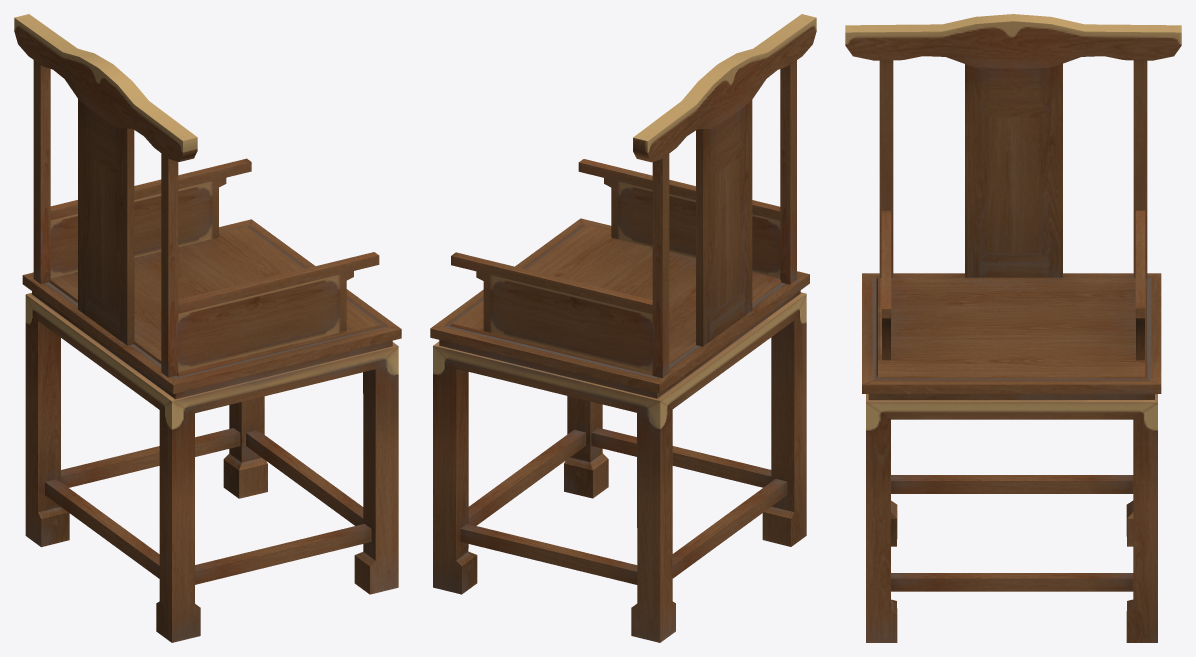
The model's file is Furniture_01_h.FBX.
The picture shows the model from 3 angles, left to right: view 1: azimuth 30°, elevation 25°; view 2: azimuth 150°, elevation 25°; view 3: azimuth 270°, elevation 25°; orthographic projection.
Parts seen in each view (by area): view 1: Furniture_01_h; view 2: Furniture_01_h; view 3: Furniture_01_h.
Boxes of the visible parts, left/top/right/bottom form: Furniture_01_h: left=14, top=14, right=401, bottom=642; Furniture_01_h: left=430, top=14, right=816, bottom=642; Furniture_01_h: left=845, top=14, right=1181, bottom=642.
Bounding box in the file's own units: 50.61 × 110 × 64.6.
